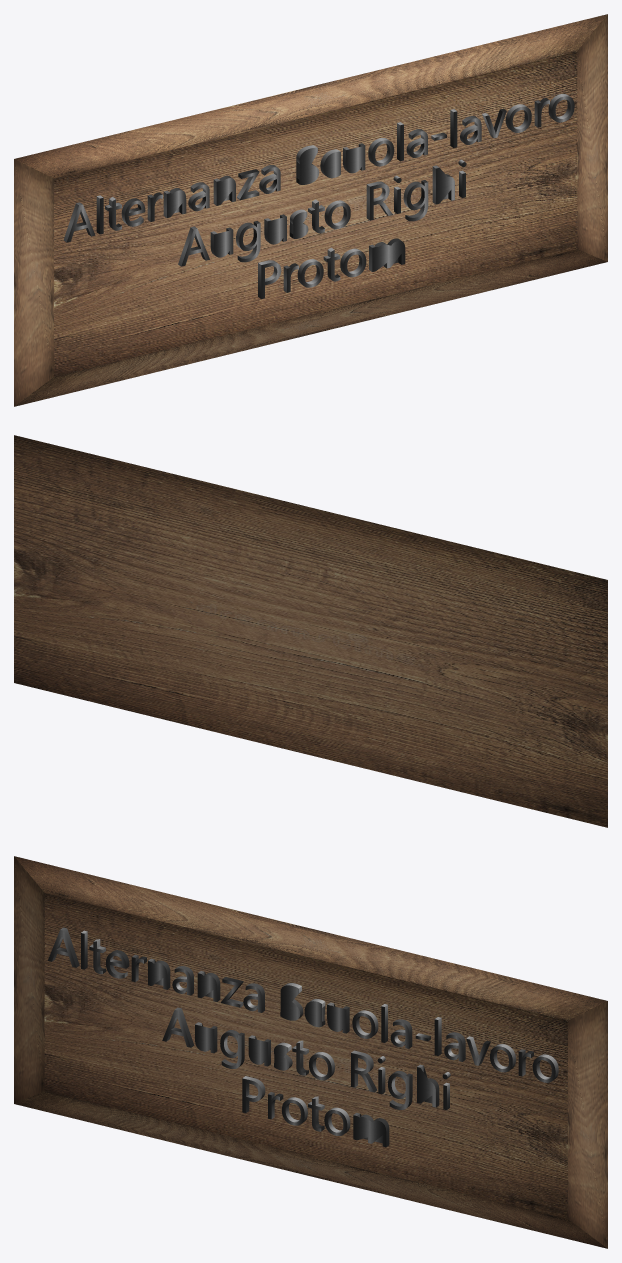
The model's file is targa alternanza_FBX.fbx.
The picture shows the model from 3 angles, top to bottom: view 1: azimuth 30°, elevation 25°; view 2: azimuth 150°, elevation 25°; view 3: azimuth 330°, elevation 25°; orthographic projection.
Parts seen in each view (by area): view 1: Cube, Cap_1_41, Cap_1_11; view 2: Cube; view 3: Cube, Cap_1_41, Cap_1_11.
Part boxes in pixels (bbox=[...]): Cube: bbox=[14, 14, 607, 406]; Cap_1_41: bbox=[372, 241, 405, 271]; Cap_1_11: bbox=[299, 147, 319, 184]; Cube: bbox=[14, 435, 607, 827]; Cube: bbox=[14, 856, 607, 1248]; Cap_1_41: bbox=[353, 1115, 386, 1147]; Cap_1_11: bbox=[280, 985, 300, 1020].
Bounding box in the file's own units: 682 × 272 × 18.88.
Materials: 2 (2 with a texture image).
